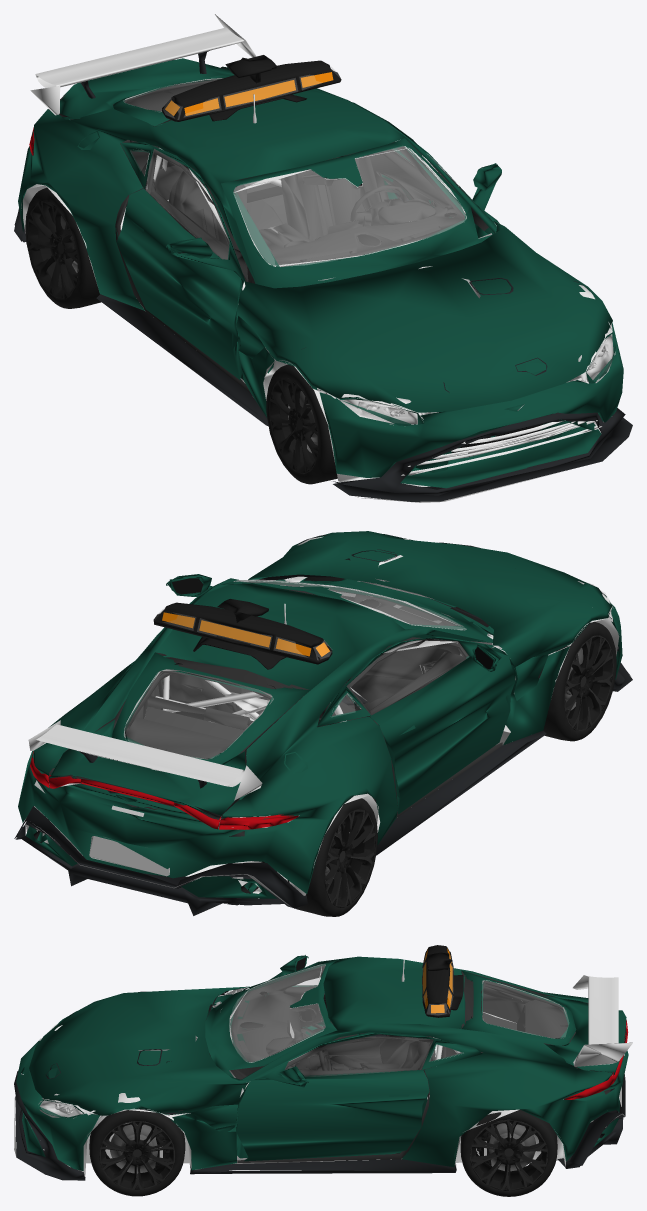
The picture shows the model from 3 angles, top to bottom: view 1: azimuth 30°, elevation 25°; view 2: azimuth 150°, elevation 25°; view 3: azimuth 270°, elevation 25°; orthographic projection. The views are drawn at different scales.
Visible parts, largest first — view 1: body, wheel_RR_spin, wheel_FR_spin; view 2: body, wheel_RR_spin, wheel_FR_spin; view 3: body, wheel_FL_spin, wheel_RL_spin.
Part boxes in pixels (x1,y1,x2,y2): body: (14, 14, 632, 502); wheel_RR_spin: (25, 187, 101, 308); wheel_FR_spin: (266, 364, 337, 484); body: (14, 531, 632, 915); wheel_RR_spin: (296, 798, 377, 916); wheel_FR_spin: (538, 621, 616, 741); body: (14, 945, 632, 1180); wheel_FL_spin: (89, 1110, 185, 1196); wheel_RL_spin: (460, 1109, 557, 1196).
Size of the model in its own units: 2.18 by 1.51 by 4.55.
